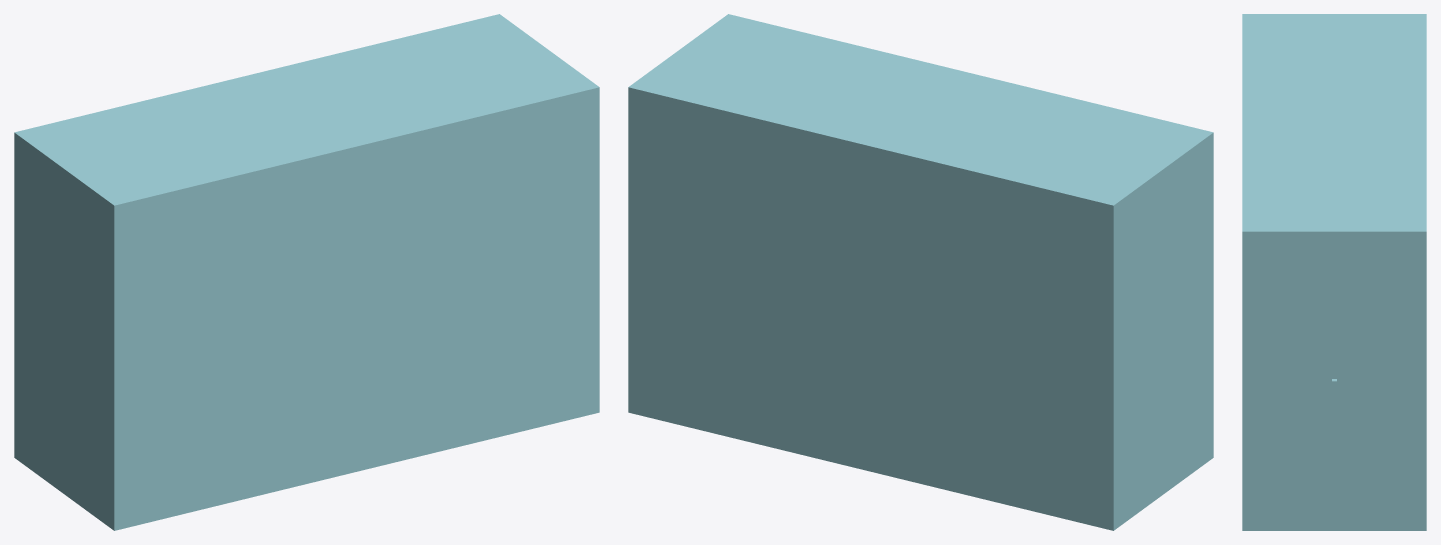
File: cuboid_eraser_v7003.obj
3 renders of one model, left to right at view 1: azimuth 30°, elevation 25°; view 2: azimuth 150°, elevation 25°; view 3: azimuth 270°, elevation 25°, orthographic. The views are drawn at different scales.
Bounding box in the file's own units: 0.0988 × 0.0627 × 0.0349.
1 material, 1 textured.
